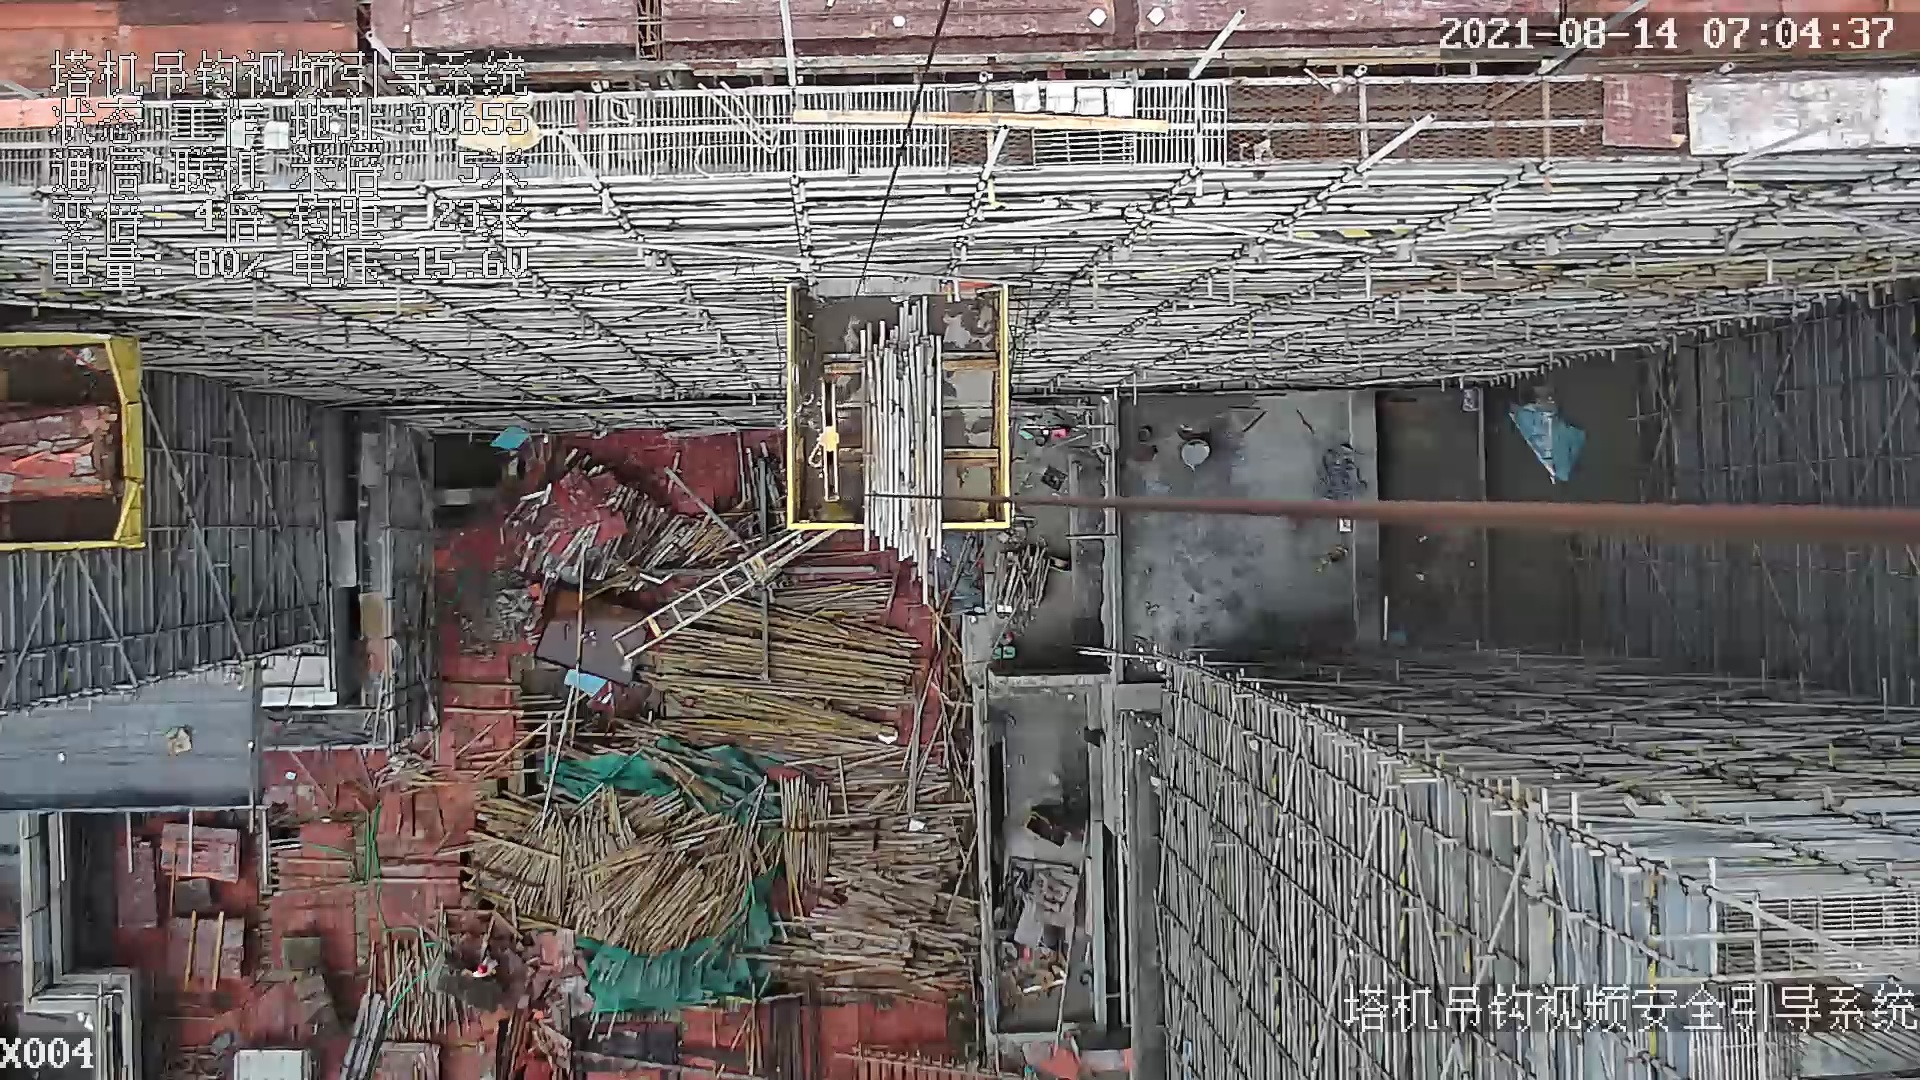hook: (806, 373, 855, 509)
